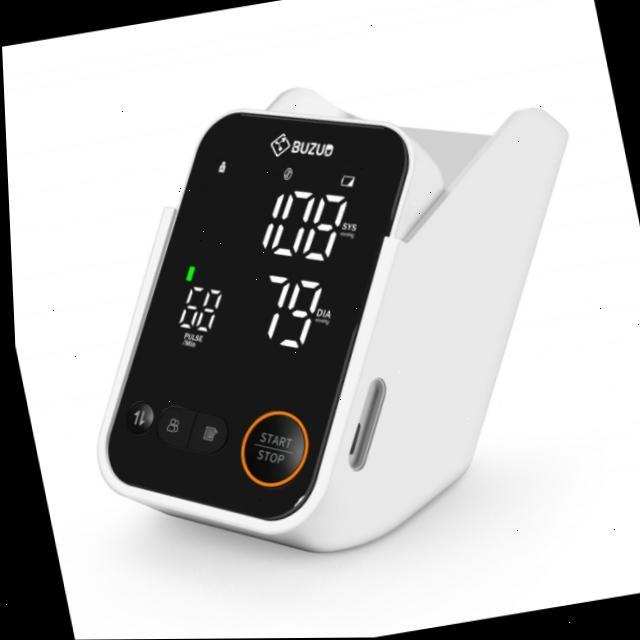dia: (246, 268, 324, 353)
pul: (167, 279, 228, 340)
ssd: (131, 88, 397, 424)
sys: (247, 183, 357, 271)
